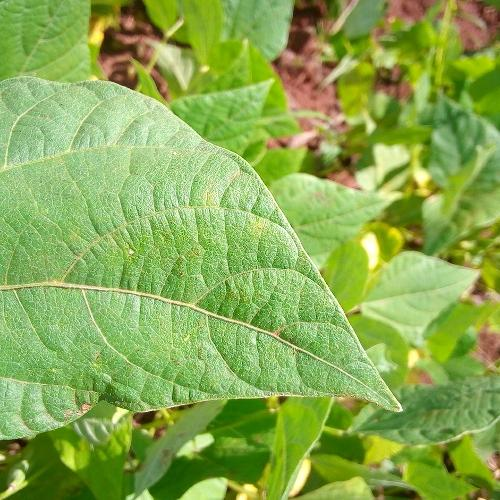sehat: (0, 119, 282, 431)
